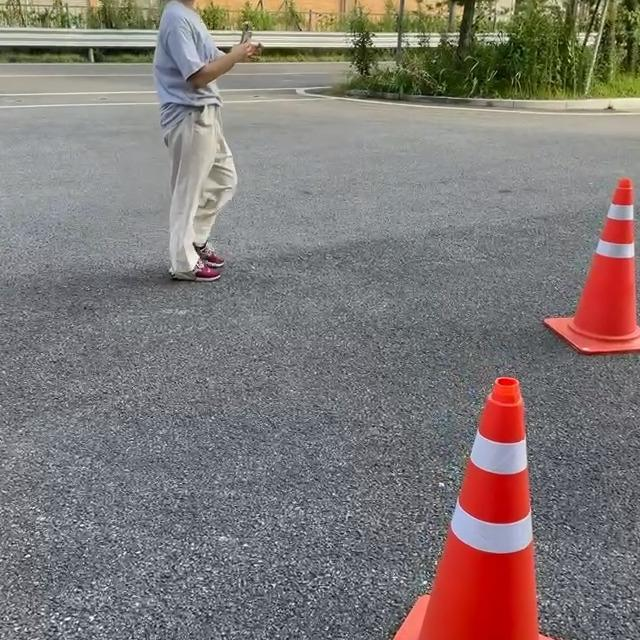fallen_object: (349, 404, 592, 640), (540, 139, 640, 407)
